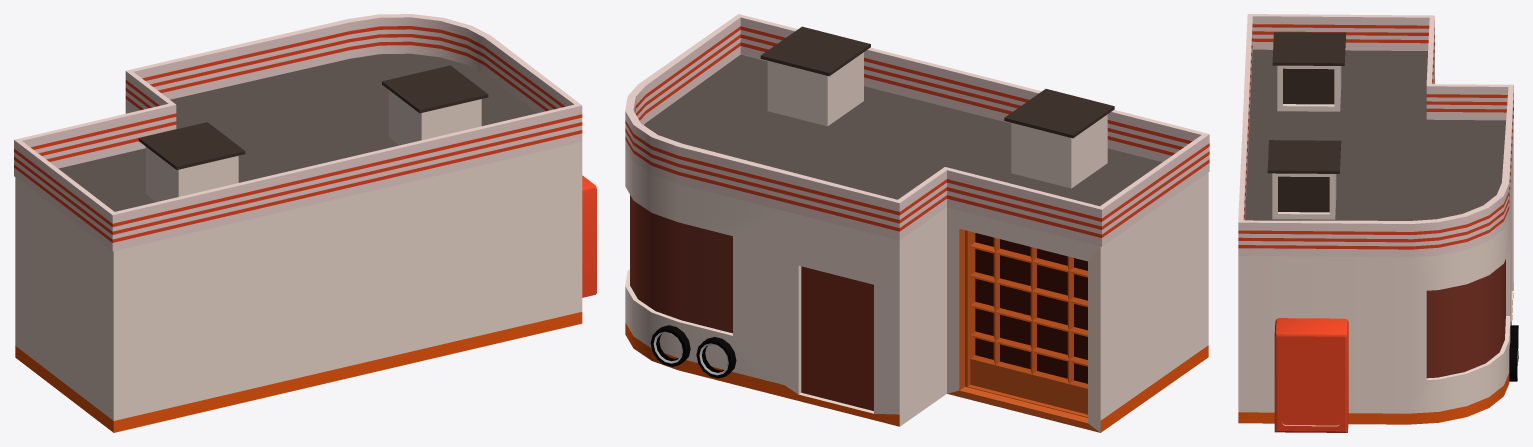
File: city_building-7.glb
The picture shows the model from 3 angles, left to right: view 1: azimuth 30°, elevation 25°; view 2: azimuth 150°, elevation 25°; view 3: azimuth 270°, elevation 25°; orthographic projection. The views are drawn at different scales.
Visible parts, largest first — view 1: Object_6; view 2: Object_6; view 3: Object_6.
Part boxes in pixels (x1,y1,x2,y2): Object_6: [14, 14, 596, 432]; Object_6: [625, 14, 1209, 432]; Object_6: [1238, 14, 1518, 432].
Bounding box in the file's own units: 15.15 × 6.83 × 7.98.
1 material, 1 textured.
